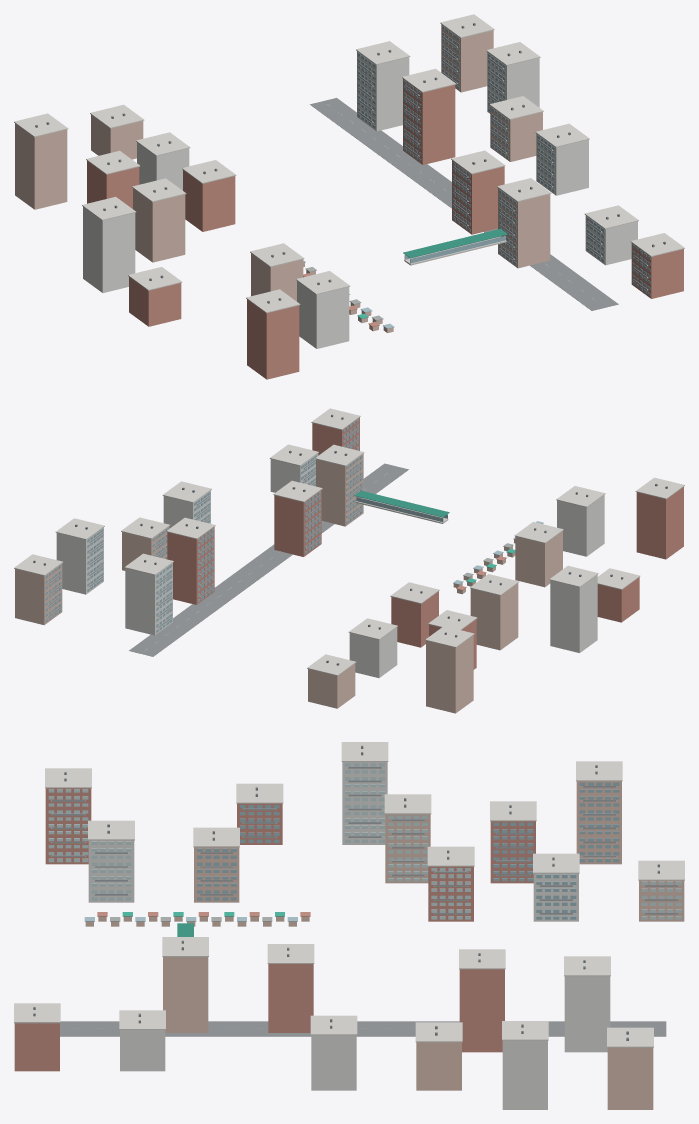
3 renders of one model, top to bottom at view 1: azimuth 30°, elevation 25°; view 2: azimuth 150°, elevation 25°; view 3: azimuth 270°, elevation 25°, orthographic. The views are drawn at different scales.
Parts seen in each view (by area): view 1: Station 10 photo-informed architecture and surroundings; view 2: Station 10 photo-informed architecture and surroundings; view 3: Station 10 photo-informed architecture and surroundings.
Boxes of the visible parts, box(x1,y1,x2,y2) form: Station 10 photo-informed architecture and surroundings: box(14, 14, 684, 379); Station 10 photo-informed architecture and surroundings: box(14, 408, 684, 713); Station 10 photo-informed architecture and surroundings: box(14, 742, 684, 1109).
Size of the model in its own units: 281 by 39.9 by 281.
